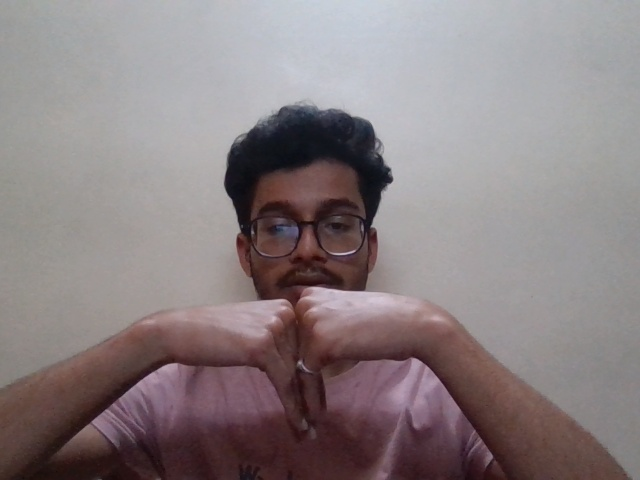yesterday: (132, 261, 419, 457)
